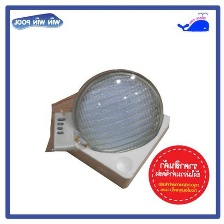light_bulb: (67, 64, 164, 163)
